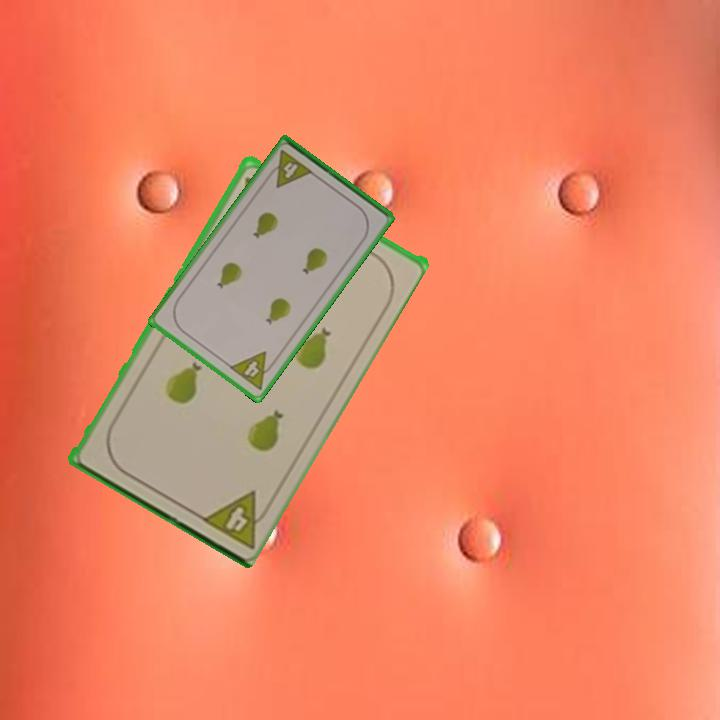4p: (195, 485, 276, 551), (226, 348, 280, 393), (263, 147, 316, 191)
